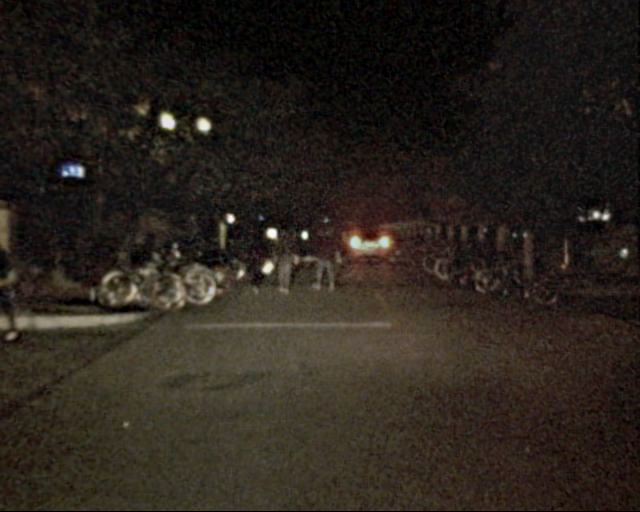person: (2, 218, 35, 338), (238, 219, 269, 295), (267, 226, 297, 299), (308, 229, 335, 296), (328, 226, 345, 268)
